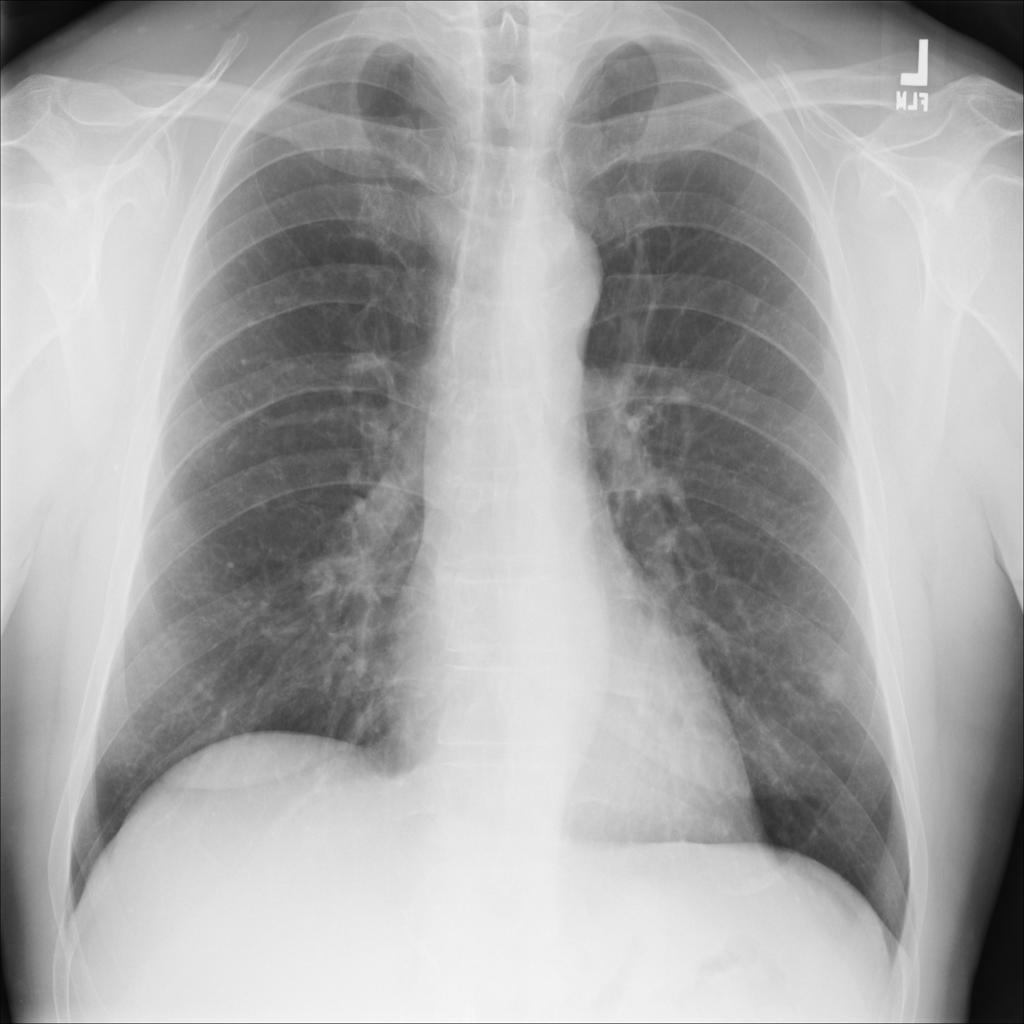nodule: (803, 641, 864, 724)
